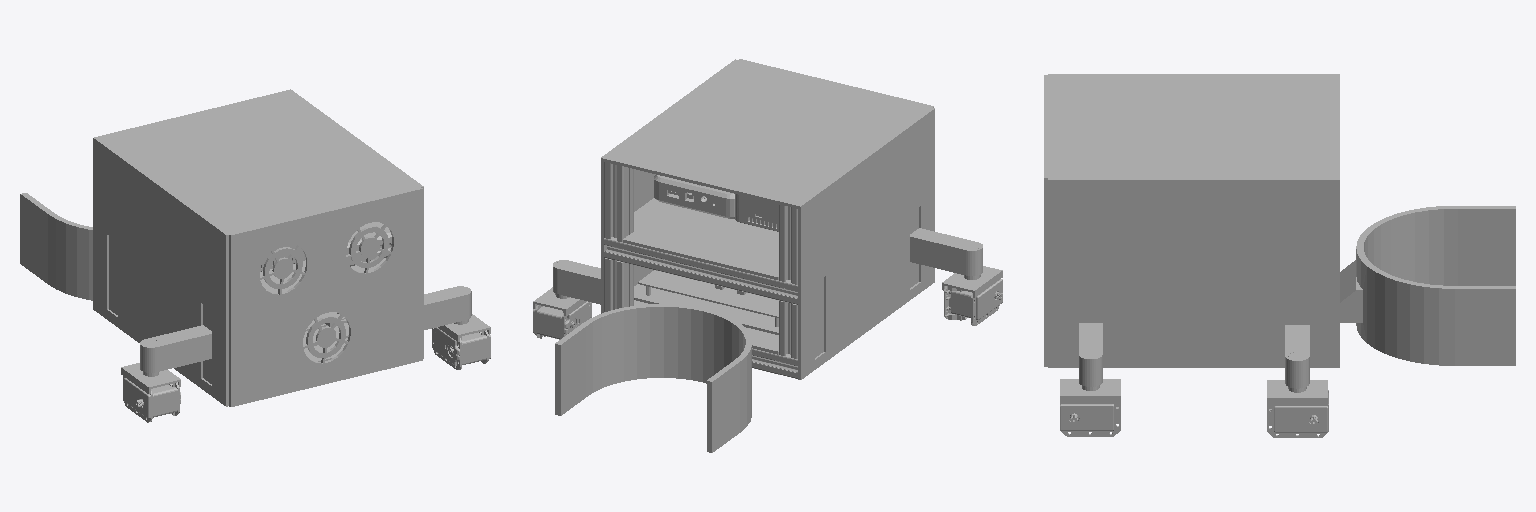
robot.urdf — 4wheel_sus:
<?xml version="1.0" encoding="utf-8"?>
<!-- This URDF was automatically created by SolidWorks to URDF Exporter! Originally created by [author] ([email redacted]) 
     Commit Version: 1.5.1-0-g916b5db  Build Version: 1.5.7152.31018
     For more information, please see http://wiki.ros.org/sw_urdf_exporter -->
<robot
  name="4wheel_sus">
  <link
    name="base_link">
    <inertial>
      <origin
        xyz="-0.101222450007234 -0.134712291964518 0.0611878805385779"
        rpy="0 0 0" />
      <mass
        value="5.04599768700975" />
      <inertia
        ixx="0.0199585188421209"
        ixy="8.49633695552677E-07"
        ixz="3.57924483955382E-07"
        iyy="0.0133780567917248"
        iyz="-8.69413175240183E-06"
        izz="0.0204011323429147" />
    </inertial>
    <visual>
      <origin
        xyz="0 0 0"
        rpy="0 0 0" />
      <geometry>
        <mesh
          filename="package://4wheel_sus/meshes/base_link.STL" />
      </geometry>
      <material
        name="">
        <color
          rgba="0.752941176470588 0.752941176470588 0.752941176470588 1" />
      </material>
    </visual>
    <collision>
      <origin
        xyz="0 0 0"
        rpy="0 0 0" />
      <geometry>
        <mesh
          filename="package://4wheel_sus/meshes/base_link.STL" />
      </geometry>
    </collision>
  </link>
  <link
    name="RFS">
    <inertial>
      <origin
        xyz="0.0724473276378504 -0.031683252131476 0.0253402400459296"
        rpy="0 0 0" />
      <mass
        value="0.26437001106024" />
      <inertia
        ixx="3.20746276473134E-05"
        ixy="1.44118283521256E-07"
        ixz="6.30853084344777E-08"
        iyy="6.22704126338856E-05"
        iyz="-2.01894652764195E-07"
        izz="6.28519936954001E-05" />
    </inertial>
    <visual>
      <origin
        xyz="0 0 0"
        rpy="0 0 0" />
      <geometry>
        <mesh
          filename="package://4wheel_sus/meshes/RFS.STL" />
      </geometry>
      <material
        name="">
        <color
          rgba="0.752941176470588 0.752941176470588 0.752941176470588 1" />
      </material>
    </visual>
    <collision>
      <origin
        xyz="0 0 0"
        rpy="0 0 0" />
      <geometry>
        <mesh
          filename="package://4wheel_sus/meshes/RFS.STL" />
      </geometry>
    </collision>
  </link>
  <joint
    name="RFS"
    type="prismatic">
    <origin
      xyz="0.10792 -0.012126 0.032608"
      rpy="2.834 0 -3.1416" />
    <parent
      link="base_link" />
    <child
      link="RFS" />
    <axis
      xyz="0 0.3028 -0.95305" />
    <limit
      lower="0"
      upper="0"
      effort="0"
      velocity="0" />
  </joint>
  <link
    name="RFW">
    <inertial>
      <origin
        xyz="0.0176842754269317 0.00317905396079527 -0.000103745604902616"
        rpy="0 0 0" />
      <mass
        value="0.193585420779862" />
      <inertia
        ixx="0.000253081141332253"
        ixy="-7.98059977897539E-24"
        ixz="4.95236102613101E-21"
        iyy="0.000136818598566517"
        iyz="4.2351647362715E-22"
        izz="0.000136818598566517" />
    </inertial>
    <visual>
      <origin
        xyz="0 0 0"
        rpy="0 0 0" />
      <geometry>
        <mesh
          filename="package://4wheel_sus/meshes/RFW.STL" />
      </geometry>
      <material
        name="">
        <color
          rgba="1 1 1 1" />
      </material>
    </visual>
    <collision>
      <origin
        xyz="0 0 0"
        rpy="0 0 0" />
      <geometry>
        <mesh
          filename="package://4wheel_sus/meshes/RFW.STL" />
      </geometry>
    </collision>
  </link>
  <joint
    name="RFW"
    type="continuous">
    <origin
      xyz="0.036171 -0.029249 0.061437"
      rpy="-1.8458 0 -3.1416" />
    <parent
      link="RFS" />
    <child
      link="RFW" />
    <axis
      xyz="1 0 0" />
    <limit
      effort="3.1"
      velocity="7" />
  </joint>
  <link
    name="LFS">
    <inertial>
      <origin
        xyz="0.0666875210853821 -0.0256174029954349 0.0272583251967583"
        rpy="0 0 0" />
      <mass
        value="0.26437001106024" />
      <inertia
        ixx="3.20746276473134E-05"
        ixy="-1.44118283521521E-07"
        ixz="-6.30853084343059E-08"
        iyy="6.22704126338856E-05"
        iyz="-2.018946527642E-07"
        izz="6.28519936954001E-05" />
    </inertial>
    <visual>
      <origin
        xyz="0 0 0"
        rpy="0 0 0" />
      <geometry>
        <mesh
          filename="package://4wheel_sus/meshes/LFS.STL" />
      </geometry>
      <material
        name="">
        <color
          rgba="0.752941176470588 0.752941176470588 0.752941176470588 1" />
      </material>
    </visual>
    <collision>
      <origin
        xyz="0 0 0"
        rpy="0 0 0" />
      <geometry>
        <mesh
          filename="package://4wheel_sus/meshes/LFS.STL" />
      </geometry>
    </collision>
  </link>
  <joint
    name="LFS"
    type="prismatic">
    <origin
      xyz="-0.30216 -0.05081 0.031999"
      rpy="2.834 0 0" />
    <parent
      link="base_link" />
    <child
      link="LFS" />
    <axis
      xyz="0 0.3028 -0.95305" />
    <limit
      lower="0"
      upper="0"
      effort="0"
      velocity="0" />
  </joint>
  <link
    name="LFW">
    <inertial>
      <origin
        xyz="0.0176842754249047 -0.00098214776682639 0.00237717934481885"
        rpy="0 0 0" />
      <mass
        value="0.193585420779862" />
      <inertia
        ixx="0.000253081141332254"
        ixy="-1.35754373945964E-19"
        ixz="-8.02909614531216E-19"
        iyy="0.000136818598566517"
        iyz="-1.01643953670516E-20"
        izz="0.000136818598566517" />
    </inertial>
    <visual>
      <origin
        xyz="0 0 0"
        rpy="0 0 0" />
      <geometry>
        <mesh
          filename="package://4wheel_sus/meshes/LFW.STL" />
      </geometry>
      <material
        name="">
        <color
          rgba="1 1 1 1" />
      </material>
    </visual>
    <collision>
      <origin
        xyz="0 0 0"
        rpy="0 0 0" />
      <geometry>
        <mesh
          filename="package://4wheel_sus/meshes/LFW.STL" />
      </geometry>
    </collision>
  </link>
  <joint
    name="LFW"
    type="continuous">
    <origin
      xyz="0.030411 -0.048258 0.05476"
      rpy="2.4422 0 -3.1416" />
    <parent
      link="LFS" />
    <child
      link="LFW" />
    <axis
      xyz="1 0 0" />
    <limit
      effort="3.1"
      velocity="7" />
  </joint>
  <link
    name="RBS">
    <inertial>
      <origin
        xyz="0.0666875210853819 -0.0256174029954352 0.0272583251967587"
        rpy="0 0 0" />
      <mass
        value="0.26437001106024" />
      <inertia
        ixx="3.20746276473134E-05"
        ixy="-1.44118283521415E-07"
        ixz="-6.30853084344921E-08"
        iyy="6.22704126338856E-05"
        iyz="-2.01894652764204E-07"
        izz="6.28519936954001E-05" />
    </inertial>
    <visual>
      <origin
        xyz="0 0 0"
        rpy="0 0 0" />
      <geometry>
        <mesh
          filename="package://4wheel_sus/meshes/RBS.STL" />
      </geometry>
      <material
        name="">
        <color
          rgba="0.752941176470588 0.752941176470588 0.752941176470588 1" />
      </material>
    </visual>
    <collision>
      <origin
        xyz="0 0 0"
        rpy="0 0 0" />
      <geometry>
        <mesh
          filename="package://4wheel_sus/meshes/RBS.STL" />
      </geometry>
    </collision>
  </link>
  <joint
    name="RBS"
    type="prismatic">
    <origin
      xyz="0.10216 -0.18919 0.034116"
      rpy="2.834 0 -3.1416" />
    <parent
      link="base_link" />
    <child
      link="RBS" />
    <axis
      xyz="0 0.3028 -0.95305" />
    <limit
      lower="0"
      upper="0"
      effort="0"
      velocity="0" />
  </joint>
  <link
    name="RBW">
    <inertial>
      <origin
        xyz="0.0176842754269322 0.00437911242791671 0.00167488661186024"
        rpy="0 0 0" />
      <mass
        value="0.193585420779862" />
      <inertia
        ixx="0.000253081141332253"
        ixy="7.17108670362947E-19"
        ixz="5.47799407276997E-19"
        iyy="0.000136818598566517"
        iyz="-3.3881317890172E-21"
        izz="0.000136818598566517" />
    </inertial>
    <visual>
      <origin
        xyz="0 0 0"
        rpy="0 0 0" />
      <geometry>
        <mesh
          filename="package://4wheel_sus/meshes/RBW.STL" />
      </geometry>
      <material
        name="">
        <color
          rgba="1 1 1 1" />
      </material>
    </visual>
    <collision>
      <origin
        xyz="0 0 0"
        rpy="0 0 0" />
      <geometry>
        <mesh
          filename="package://4wheel_sus/meshes/RBW.STL" />
      </geometry>
    </collision>
  </link>
  <joint
    name="RBW"
    type="continuous">
    <origin
      xyz="0.030411 -0.048899 0.056777"
      rpy="-2.2437 0 -3.1416" />
    <parent
      link="RBS" />
    <child
      link="RBW" />
    <axis
      xyz="1 0 0" />
    <limit
      effort="3.1"
      velocity="7" />
  </joint>
  <link
    name="LBS">
    <inertial>
      <origin
        xyz="0.07244732763785 -0.0024230655827128 -0.0667549990091168"
        rpy="0 0 0" />
      <mass
        value="0.26437001106024" />
      <inertia
        ixx="3.20746276473134E-05"
        ixy="1.44118283521135E-07"
        ixz="6.30853084346611E-08"
        iyy="6.22704126338856E-05"
        iyz="-2.01894652764193E-07"
        izz="6.28519936954001E-05" />
    </inertial>
    <visual>
      <origin
        xyz="0 0 0"
        rpy="0 0 0" />
      <geometry>
        <mesh
          filename="package://4wheel_sus/meshes/LBS.STL" />
      </geometry>
      <material
        name="">
        <color
          rgba="0.752941176470588 0.752941176470588 0.752941176470588 1" />
      </material>
    </visual>
    <collision>
      <origin
        xyz="0 0 0"
        rpy="0 0 0" />
      <geometry>
        <mesh
          filename="package://4wheel_sus/meshes/LBS.STL" />
      </geometry>
    </collision>
  </link>
  <joint
    name="LBS"
    type="prismatic">
    <origin
      xyz="-0.30792 -0.22787 -0.039342"
      rpy="2.834 0 0" />
    <parent
      link="base_link" />
    <child
      link="LBS" />
    <axis
      xyz="0 0.3028 -0.95305" />
    <limit
      lower="0"
      upper="0"
      effort="0"
      velocity="0" />
  </joint>
  <link
    name="LBW">
    <inertial>
      <origin
        xyz="0.0176842754249237 -0.010084618767511 0.0259800171985082"
        rpy="0 0 0" />
      <mass
        value="0.193585420779862" />
      <inertia
        ixx="0.000253081141332254"
        ixy="1.72925527374671E-20"
        ixz="-3.6518488849057E-21"
        iyy="0.000136818598566517"
        iyz="-6.7762635780344E-21"
        izz="0.000136818598566517" />
    </inertial>
    <visual>
      <origin
        xyz="0 0 0"
        rpy="0 0 0" />
      <geometry>
        <mesh
          filename="package://4wheel_sus/meshes/LBW.STL" />
      </geometry>
      <material
        name="">
        <color
          rgba="1 1 1 1" />
      </material>
    </visual>
    <collision>
      <origin
        xyz="0 0 0"
        rpy="0 0 0" />
      <geometry>
        <mesh
          filename="package://4wheel_sus/meshes/LBW.STL" />
      </geometry>
    </collision>
  </link>
  <joint
    name="LBW"
    type="continuous">
    <origin
      xyz="0.036171 -0.0080345 -0.0073174"
      rpy="2.4422 0 3.1416" />
    <parent
      link="LBS" />
    <child
      link="LBW" />
    <axis
      xyz="1 0 0" />
    <limit
      effort="3.1"
      velocity="7" />
  </joint>
  <link
    name="Camera">
    <inertial>
      <origin
        xyz="-0.0238863602658846 -0.0255006342246767 0.0933352701359988"
        rpy="0 0 0" />
      <mass
        value="0.0842240149784746" />
      <inertia
        ixx="1.39666964094511E-05"
        ixy="-8.81675038637699E-10"
        ixz="-1.01039030272292E-09"
        iyy="3.67256475244704E-05"
        iyz="-1.51507840680378E-06"
        izz="3.01150351793437E-05" />
    </inertial>
    <visual>
      <origin
        xyz="0 0 0"
        rpy="0 0 0" />
      <geometry>
        <mesh
          filename="package://4wheel_sus/meshes/Camera.STL" />
      </geometry>
      <material
        name="">
        <color
          rgba="0.752941176470588 0.752941176470588 0.752941176470588 1" />
      </material>
    </visual>
    <collision>
      <origin
        xyz="0 0 0"
        rpy="0 0 0" />
      <geometry>
        <mesh
          filename="package://4wheel_sus/meshes/Camera.STL" />
      </geometry>
    </collision>
  </link>
  <joint
    name="Camera"
    type="fixed">
    <origin
      xyz="-0.13188 -0.10697 0.14474"
      rpy="1.7188 0 3.1056" />
    <parent
      link="base_link" />
    <child
      link="Camera" />
    <axis
      xyz="0 0 0" />
  </joint>
  <link
    name="RPLidar">
    <inertial>
      <origin
        xyz="-0.0784930307037288 0.744427437305917 0.133449661555198"
        rpy="0 0 0" />
      <mass
        value="0.0730845788526277" />
      <inertia
        ixx="1.95808748637193E-05"
        ixy="-4.28390989680129E-07"
        ixz="1.03932705917578E-07"
        iyy="4.14184477875127E-05"
        iyz="-9.42731071230568E-09"
        izz="2.41250058024956E-05" />
    </inertial>
    <visual>
      <origin
        xyz="0 0 0"
        rpy="0 0 0" />
      <geometry>
        <mesh
          filename="package://4wheel_sus/meshes/RPLidar.STL" />
      </geometry>
      <material
        name="">
        <color
          rgba="0.792156862745098 0.819607843137255 0.933333333333333 1" />
      </material>
    </visual>
    <collision>
      <origin
        xyz="0 0 0"
        rpy="0 0 0" />
      <geometry>
        <mesh
          filename="package://4wheel_sus/meshes/RPLidar.STL" />
      </geometry>
    </collision>
  </link>
  <joint
    name="RPLidar"
    type="fixed">
    <origin
      xyz="-0.237163065688857 0.0165890879455942 -0.568694502755534"
      rpy="1.57079632679489 0 1.59731568067692" />
    <parent
      link="base_link" />
    <child
      link="RPLidar" />
    <axis
      xyz="0 0 0" />
  </joint>
</robot>

--- What the picture shows (computed from the rendered views, not written in the file) ---
The picture shows the robot from 3 angles, left to right: view 1: azimuth 30°, elevation 25°; view 2: azimuth 150°, elevation 25°; view 3: azimuth 270°, elevation 25°; orthographic projection.
Robot: 4wheel_sus — 11 links, 10 joints (4 continuous, 4 prismatic, 2 fixed); root link base_link; default pose: all joints at 0.
Links seen in each view (by area): view 1: base_link, LBS, RBS; view 2: base_link, LBS, RFS; view 3: base_link, RFS, RBS.
Boxes of the visible links, x1,y1,x2,y2 form: base_link: (20, 89, 423, 406); LBS: (121, 325, 211, 422); RBS: (424, 286, 490, 369); base_link: (555, 59, 934, 452); LBS: (910, 228, 1002, 325); RFS: (533, 260, 600, 339); base_link: (1044, 74, 1515, 367); RFS: (1267, 325, 1328, 437); RBS: (1060, 323, 1120, 436).
Size in the robot's own frame: 0.3675 by 0.3873 by 0.2004 metres.
Meshes: 11 distinct files referenced, 4 mesh visuals loaded (4 binary STL); not drawn: 7 (reference not matched to a file when rendering).